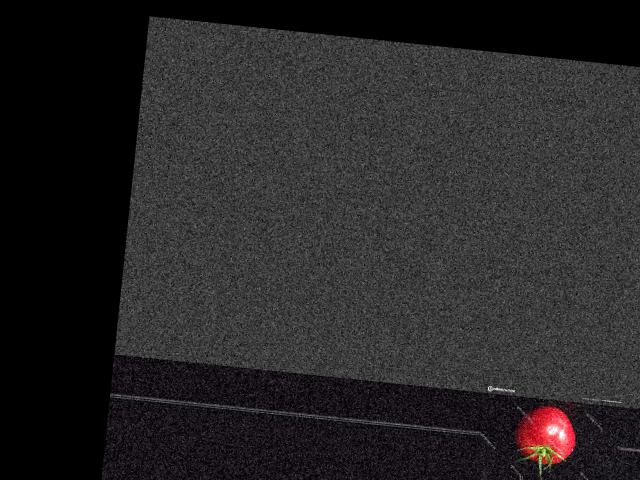tomato: (512, 402, 579, 466)
